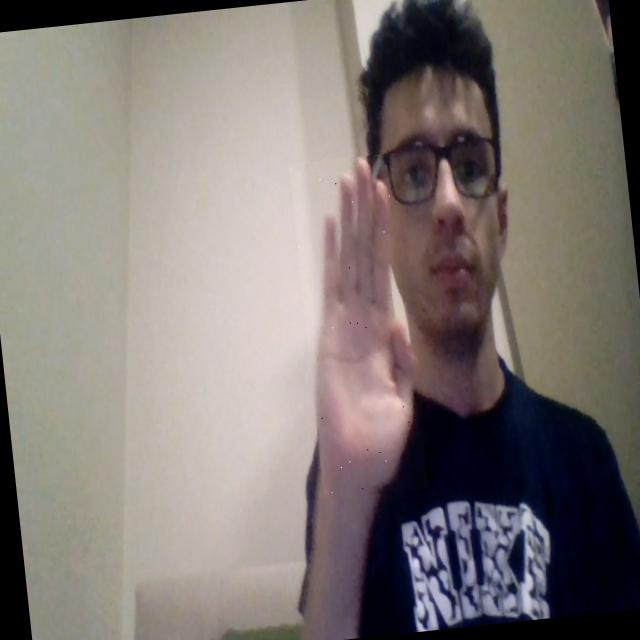hello: (289, 153, 430, 500)
